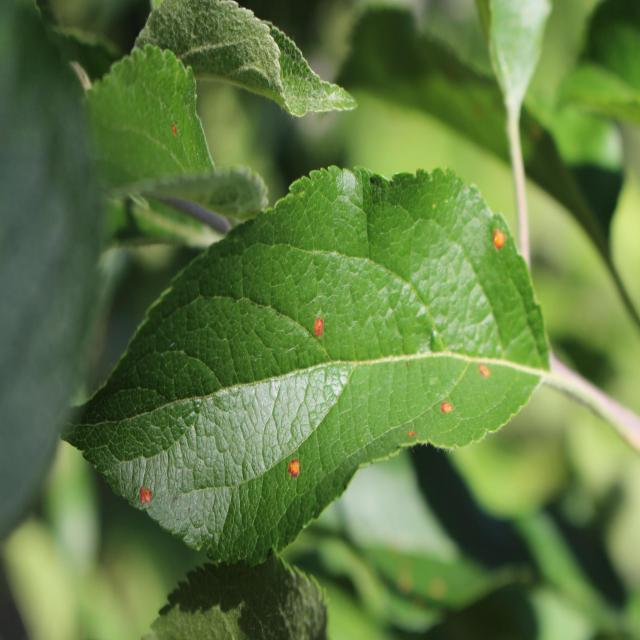Rust: (471, 351, 500, 396), (128, 472, 156, 509), (389, 426, 428, 452), (309, 314, 337, 348), (283, 451, 306, 490), (489, 219, 508, 258), (440, 387, 456, 425)
